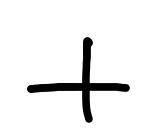plus: (26, 35, 129, 122)
